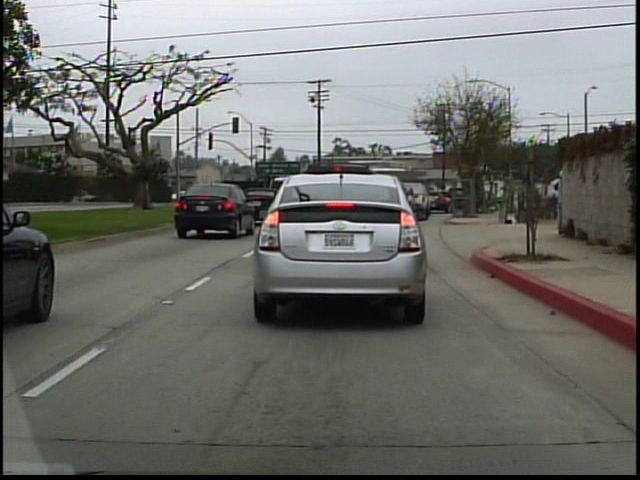person: (549, 164, 569, 241)
